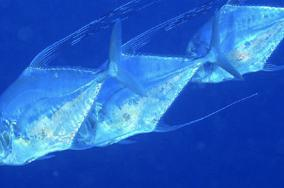Carangidae -Jacks-: (65, 3, 253, 152), (0, 17, 153, 171), (180, 0, 284, 86)
